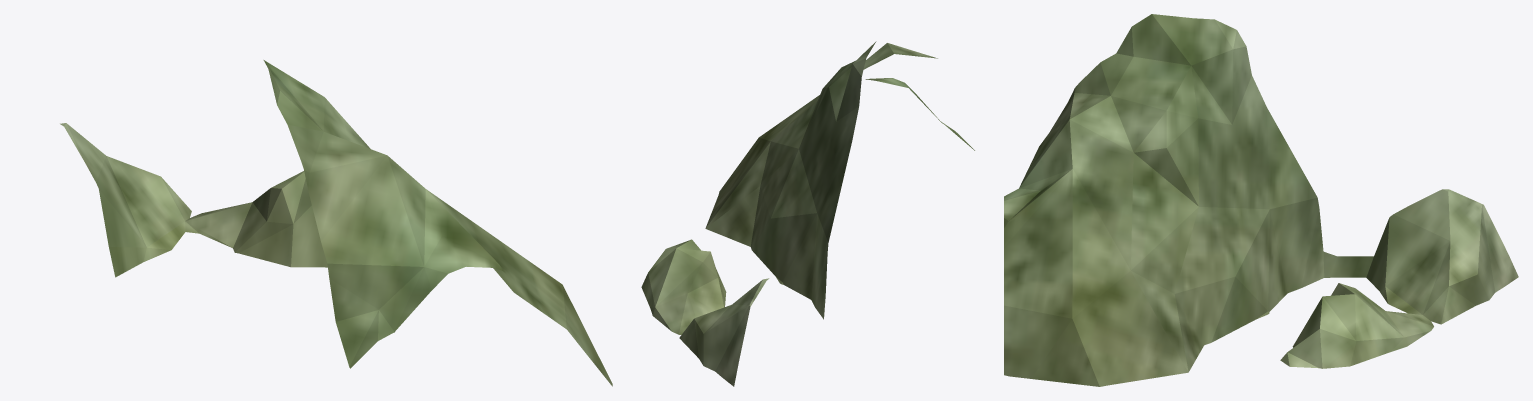
The picture shows the model from 3 angles, left to right: view 1: azimuth 30°, elevation 25°; view 2: azimuth 150°, elevation 25°; view 3: azimuth 270°, elevation 25°; orthographic projection. The views are drawn at different scales.
Size of the model in its own units: 0.6405 by 0.7155 by 1.27.
1 material, 1 textured.
